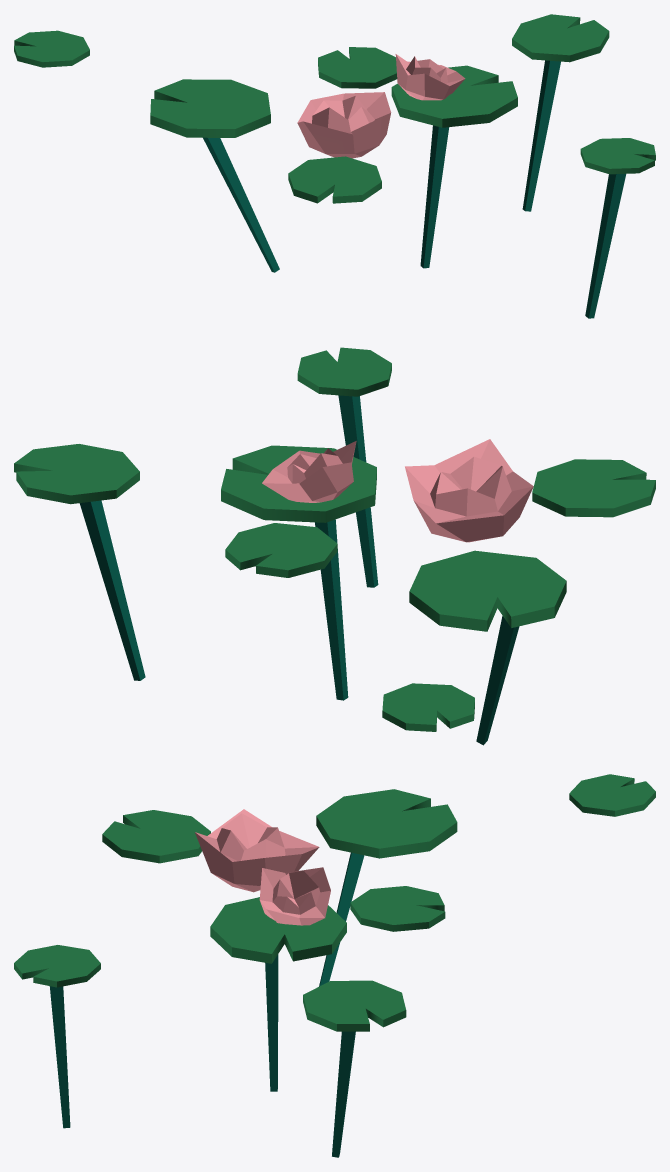
Rendered from SM_Env_Lillypad_Small_01-optimized.glb.
3 renders of one model, top to bottom at view 1: azimuth 30°, elevation 25°; view 2: azimuth 150°, elevation 25°; view 3: azimuth 270°, elevation 25°, orthographic. The views are drawn at different scales.
Visible parts, largest first — view 1: SM_Env_Lillypad_Small_01; view 2: SM_Env_Lillypad_Small_01; view 3: SM_Env_Lillypad_Small_01.
Boxes of the visible parts, bbox=[...] form: SM_Env_Lillypad_Small_01: bbox=[14, 14, 655, 318]; SM_Env_Lillypad_Small_01: bbox=[14, 347, 655, 745]; SM_Env_Lillypad_Small_01: bbox=[14, 774, 655, 1157].
Size of the model in its own units: 1.74 by 0.7143 by 1.88.
Materials: 1 (1 with a texture image).
